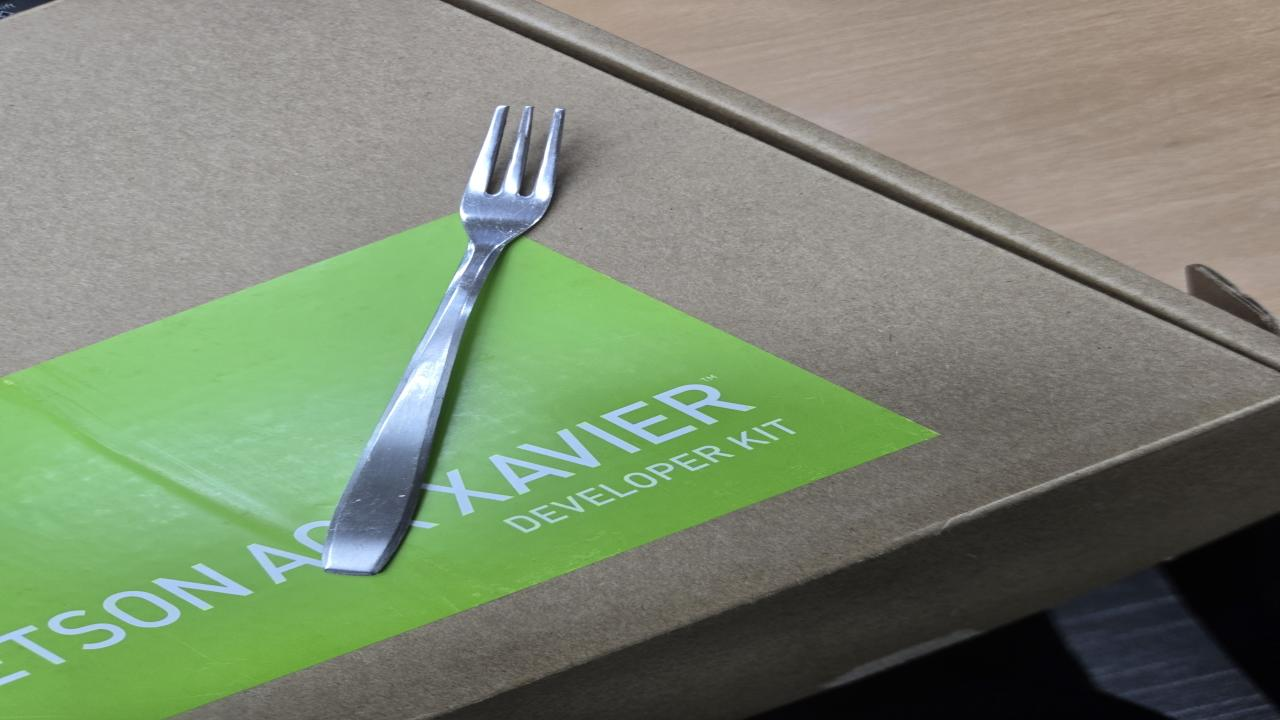fork: (324, 104, 570, 574)
